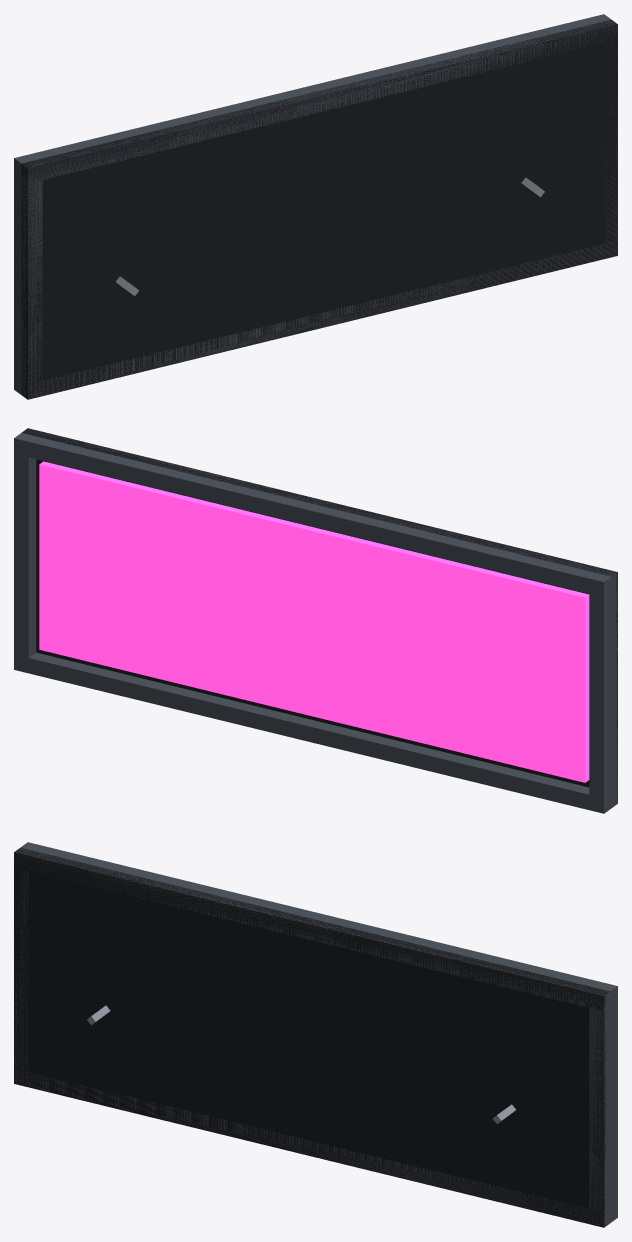
The model's file is neon_sign_blank.glb.
3 views of the same model, one above another, from view 1: azimuth 30°, elevation 25°; view 2: azimuth 150°, elevation 25°; view 3: azimuth 330°, elevation 25° (orthographic).
Visible parts, largest first — view 1: Body; view 2: Panel, Body; view 3: Body.
Boxes of the visible parts, x1,y1,x2,y2 form: Body: [14, 14, 617, 399]; Panel: [39, 461, 589, 782]; Body: [14, 428, 617, 813]; Body: [14, 842, 617, 1227].
Size of the model in its own units: 1.6 by 0.6 by 0.135.
